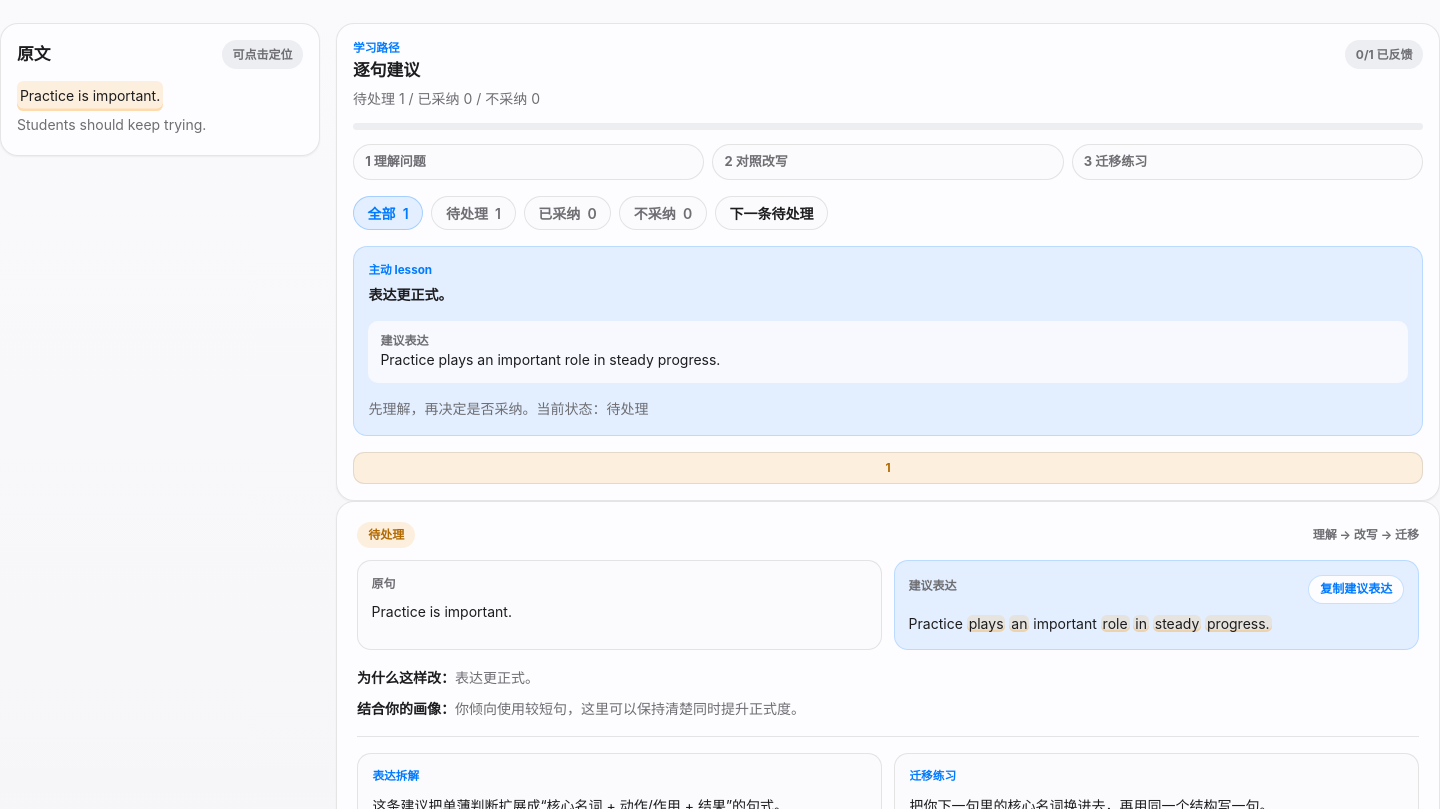
Test: InteractiveEssayReview › links highlighted sentences with their suggestion cards
Click the button with test id "review-sentence-suggestion-1".
click(90, 96)  # box [17,81,163,111]
(page scrolled)
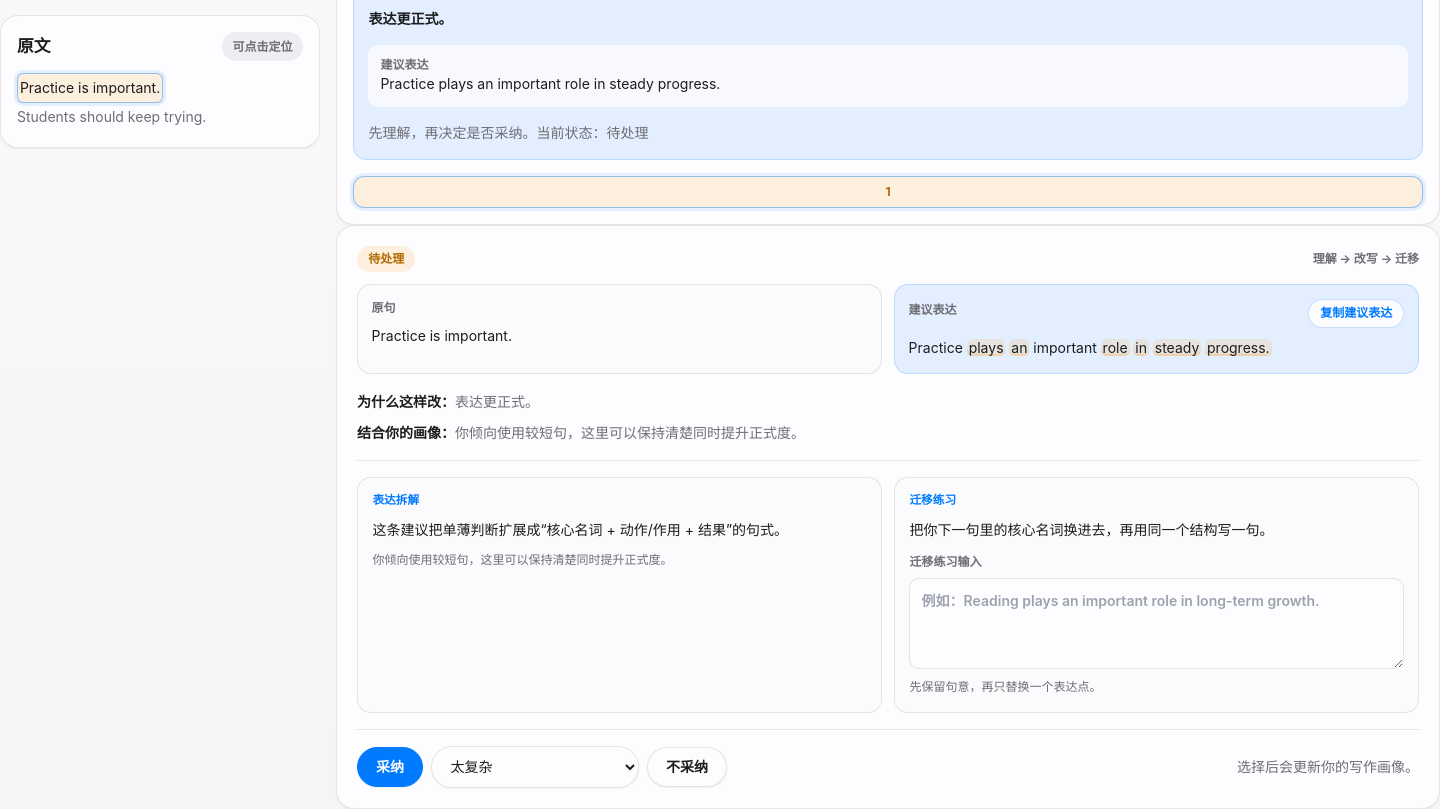
Expected: the button with test id "review-sentence-suggestion-1" has class "review-sentence-active", [17,73,163,103]
Expected: the element with test id "review-suggestion-card-suggestion-1" has class "review-suggestion-active", [336,225,1439,808]
